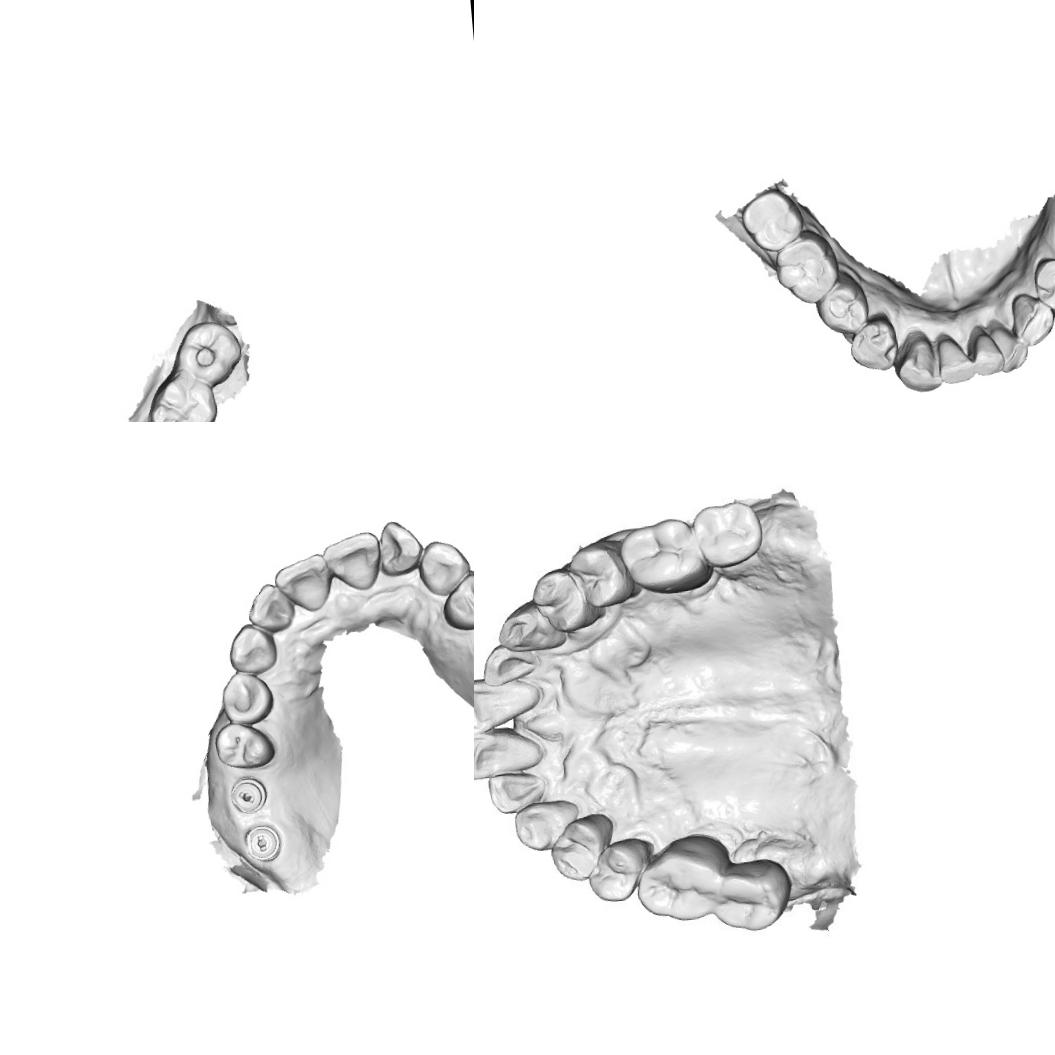canine: (514, 797, 589, 858), (414, 536, 472, 597), (495, 603, 566, 650), (893, 334, 946, 395), (225, 620, 279, 675), (1008, 289, 1055, 347)
implant_minus: (227, 773, 269, 815), (242, 821, 282, 862)
incisor: (481, 766, 556, 823), (320, 529, 383, 593), (272, 551, 334, 615), (474, 724, 539, 785), (474, 676, 541, 728), (374, 516, 425, 578), (244, 580, 297, 636), (479, 638, 537, 684), (935, 332, 976, 385), (990, 322, 1030, 374), (970, 330, 1005, 377)
molar: (634, 846, 720, 920), (708, 858, 790, 934), (168, 312, 247, 390), (614, 517, 697, 587), (771, 226, 842, 306), (737, 185, 805, 254), (137, 368, 222, 422), (692, 501, 760, 563)
premolar: (811, 266, 870, 336), (529, 570, 592, 634), (211, 718, 277, 772), (218, 669, 276, 727), (846, 314, 900, 373), (572, 540, 622, 603), (587, 844, 639, 900), (551, 824, 598, 876), (438, 569, 474, 633), (1031, 253, 1055, 312)
